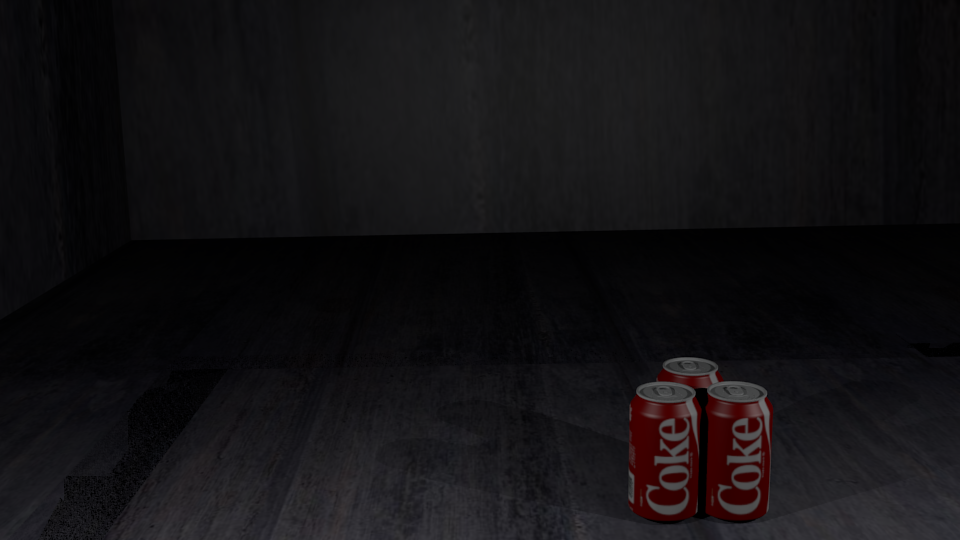cola_can: (700, 382, 772, 516), (629, 382, 700, 517), (657, 358, 722, 484)
